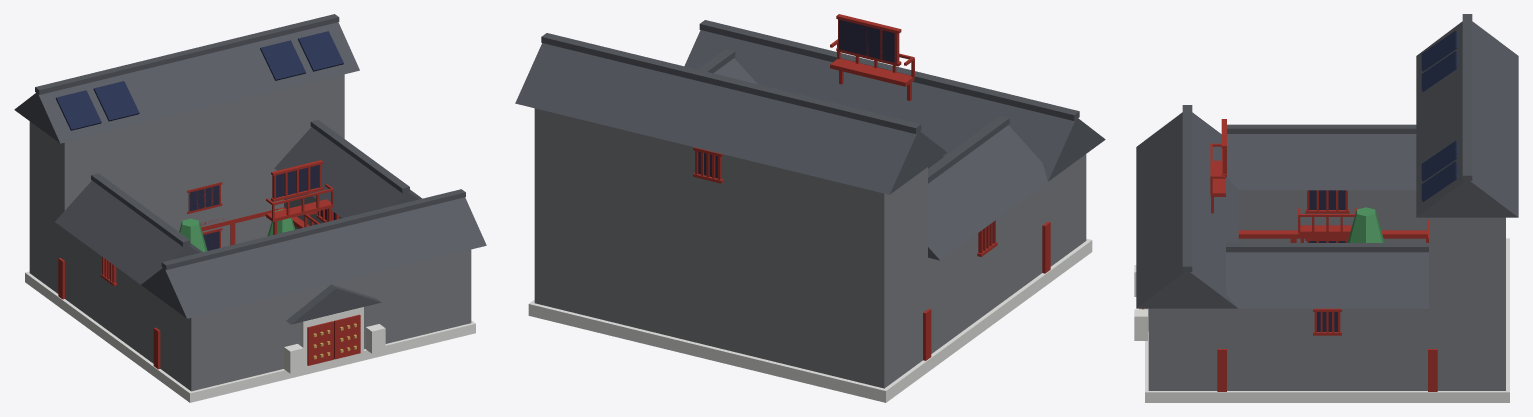
File: house-2x2-4f-siheyuan-a-solar.glb
The picture shows the model from 3 angles, left to right: view 1: azimuth 30°, elevation 25°; view 2: azimuth 150°, elevation 25°; view 3: azimuth 270°, elevation 25°; orthographic projection. The views are drawn at different scales.
Parts seen in each view (by area): view 1: house-2x2-4f-siheyuan-a-solar; view 2: house-2x2-4f-siheyuan-a-solar; view 3: house-2x2-4f-siheyuan-a-solar.
Boxes of the visible parts, x1,y1,x2,y2 form: house-2x2-4f-siheyuan-a-solar: [14, 14, 486, 402]; house-2x2-4f-siheyuan-a-solar: [515, 14, 1105, 402]; house-2x2-4f-siheyuan-a-solar: [1134, 14, 1518, 402].
Size of the model in its own units: 1.98 by 1.32 by 1.99.
Materials: 1 (1 with a texture image).
